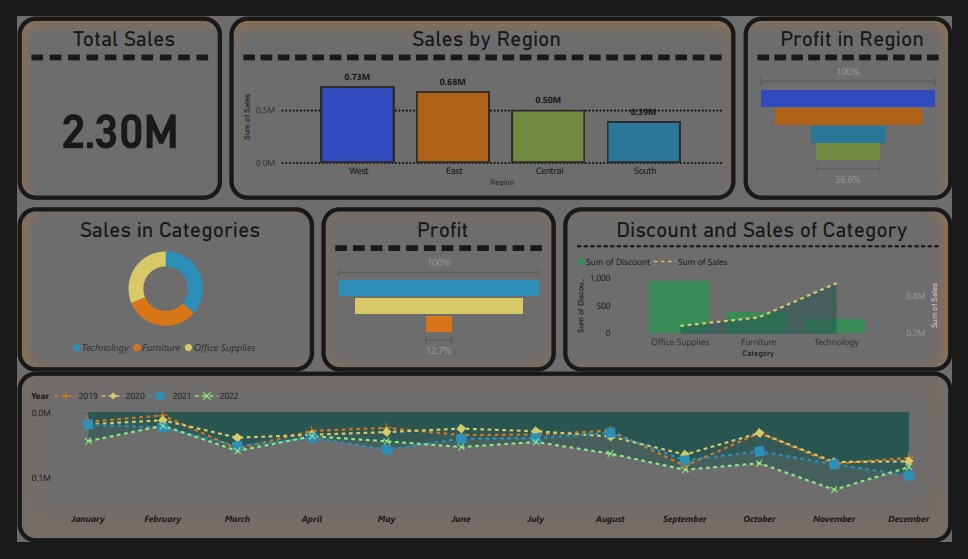

What the dashboard file says about the page in this screenshot:
{"tool":"powerbi","page":{"name":"Page 1","canvas":[1280,720],"ordinal":0},"visuals":[{"type":"card","title":"Total Sales","fields":{"Values":["Sum(Superstore.Sales)"]},"box":[0,0,280,251.4],"z":0},{"type":"columnChart","title":" Sales by Region","fields":{"Category":["Superstore.Region"],"Y":["Sum(Superstore.Sales)"]},"box":[290,0,692.9,251.4],"z":1},{"type":"donutChart","title":"Sales in Categories","fields":{"Category":["Superstore.Category"],"Y":["Sum(Superstore.Sales)"]},"box":[0,261.4,405.7,224.3],"z":2},{"type":"funnel","title":" Profit in Region","fields":{"Category":["Superstore.Region"],"Y":["Sum(Superstore.Profit)"]},"box":[994.3,0,285.7,251.4],"z":3},{"type":"lineStackedColumnComboChart","title":"Discount and Sales of Category","fields":{"Category":["Superstore.Category"],"Y":["Sum(Superstore.Discount)"],"Y2":["Sum(Superstore.Sales)"]},"box":[747.1,261.4,532.9,224.3],"z":4},{"type":"funnel","title":"Profit ","fields":{"Category":["Superstore.Category"],"Y":["Sum(Superstore.Profit)"]},"box":[415.7,261.4,321.4,224.3],"z":5},{"type":"lineChart","fields":{"Category":["Superstore.Order Data.Variation.Date Hierarchy.Month"],"Y":["Sum(Superstore.Sales)"],"Series":["Superstore.Order Data.Variation.Date Hierarchy.Year"]},"box":[0,485.7,1280,234.3],"z":6}]}

Visuals, with their boxes in screenshot pixels (x1, y1, x2, y2), scaled from the page's 1280x720 canvas onto the 968x559 screenshot:
"Total Sales" card: region(0, 0, 212, 195)
" Sales by Region" columnChart: region(219, 0, 743, 195)
"Sales in Categories" donutChart: region(0, 203, 307, 377)
" Profit in Region" funnel: region(752, 0, 967, 195)
"Discount and Sales of Category" lineStackedColumnComboChart: region(565, 203, 967, 377)
"Profit " funnel: region(314, 203, 557, 377)
lineChart - Superstore.Order Data.Variation.Date Hierarchy.Month x Sum(Superstore.Sales): region(0, 377, 967, 558)
